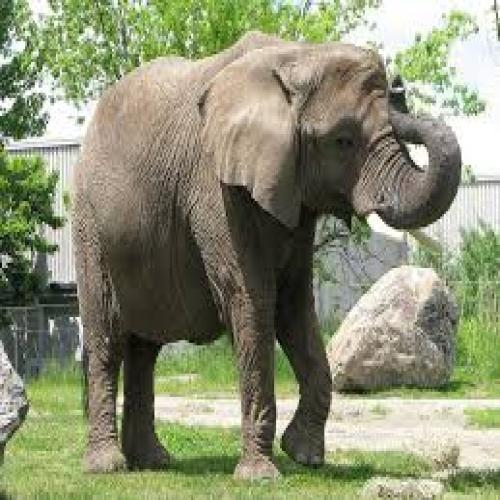asian_elephant-endangered: (74, 32, 463, 475)
